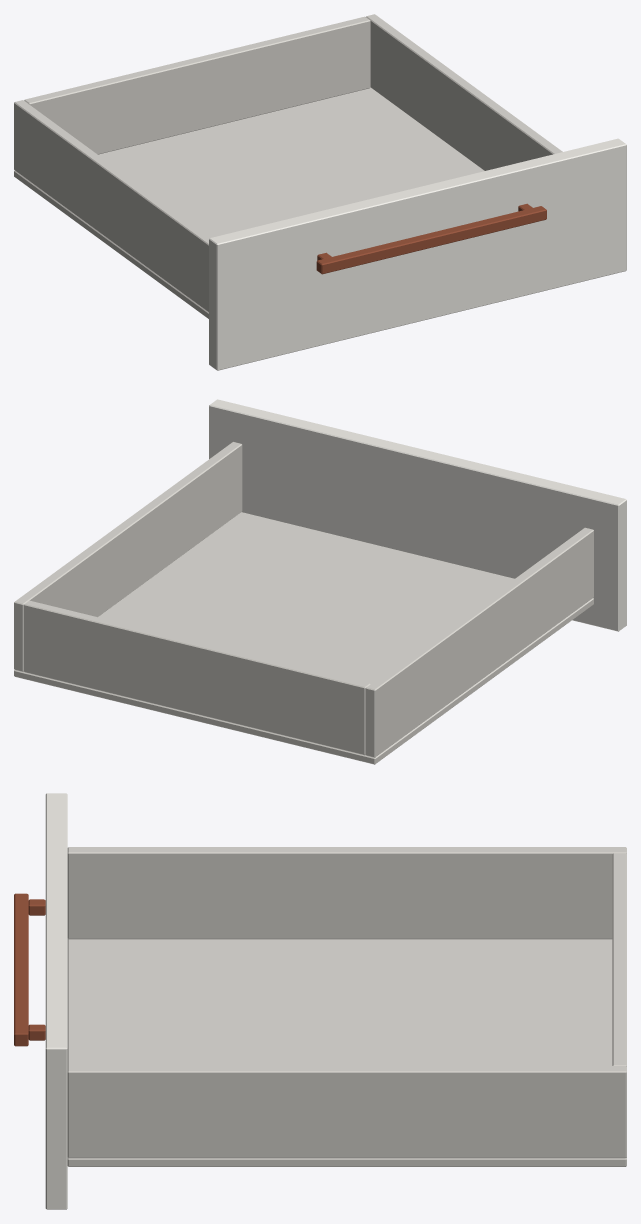
Rendered from l_kitchen_long_b2_drawer.glb.
3 renders of one model, top to bottom at view 1: azimuth 30°, elevation 25°; view 2: azimuth 150°, elevation 25°; view 3: azimuth 270°, elevation 25°, orthographic. The views are drawn at different scales.
Visible parts, largest first — view 1: l_kitchen_long_b2_drawer; view 2: l_kitchen_long_b2_drawer; view 3: l_kitchen_long_b2_drawer.
Boxes of the visible parts, x1,y1,x2,y2 form: l_kitchen_long_b2_drawer: (14, 14, 626, 370); l_kitchen_long_b2_drawer: (14, 399, 626, 764); l_kitchen_long_b2_drawer: (14, 793, 626, 1209).
Size of the model in its own units: 0.497 by 0.147 by 0.504.
